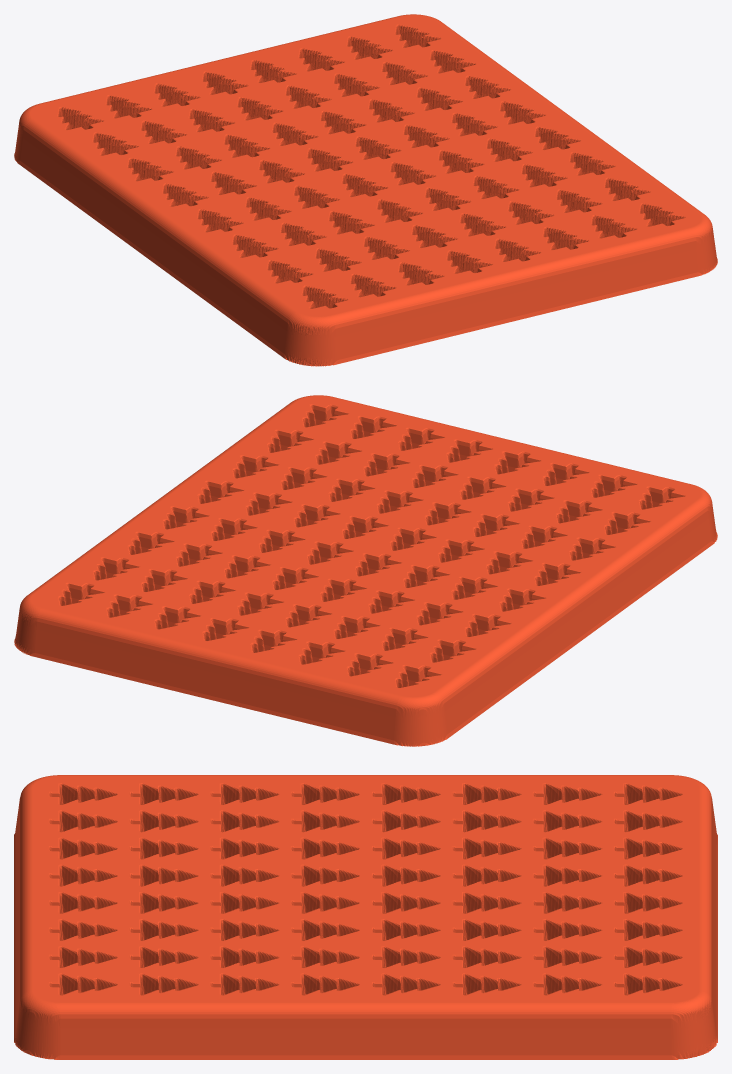
File: mold.glb
3 renders of one model, top to bottom at view 1: azimuth 30°, elevation 25°; view 2: azimuth 150°, elevation 25°; view 3: azimuth 270°, elevation 25°, orthographic. The views are drawn at different scales.
Visible parts, largest first — view 1: geometry_0; view 2: geometry_0; view 3: geometry_0.
Part boxes in pixels (x1,y1,x2,y2): geometry_0: (14, 14, 717, 366); geometry_0: (14, 395, 717, 746); geometry_0: (14, 775, 717, 1059).
Size of the model in its own units: 0.1103 by 0.0105 by 0.1355.
